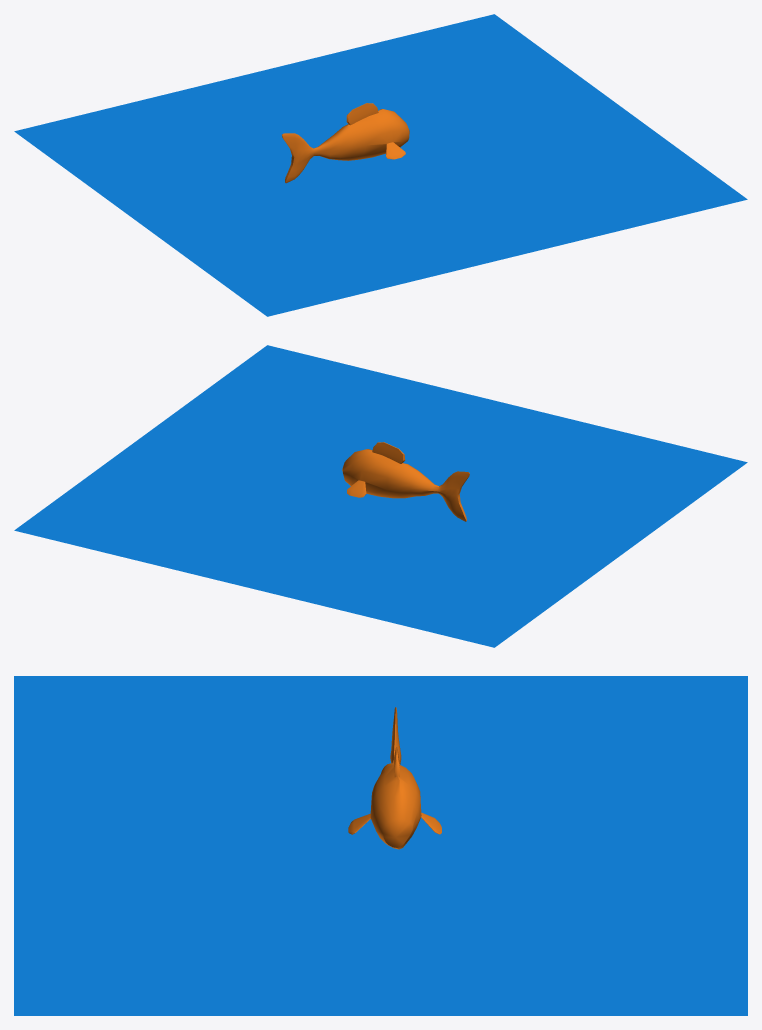
File: cutiefishes.gltf
3 views of the same model, one above another, from view 1: azimuth 30°, elevation 25°; view 2: azimuth 150°, elevation 25°; view 3: azimuth 270°, elevation 25° (orthographic). The views are drawn at different scales.
Parts seen in each view (by area): view 1: Plane.047, fish low poly; view 2: Plane.047, fish low poly; view 3: Plane.047, fish low poly.
Part boxes in pixels (x1,y1,x2,y2): Plane.047: (14,14,747,316); fish low poly: (282,103,409,183); Plane.047: (14,345,747,647); fish low poly: (342,442,469,521); Plane.047: (14,676,747,1015); fish low poly: (348,707,441,849).
Size of the model in its own units: 3.51 by 0.7342 by 3.2.
